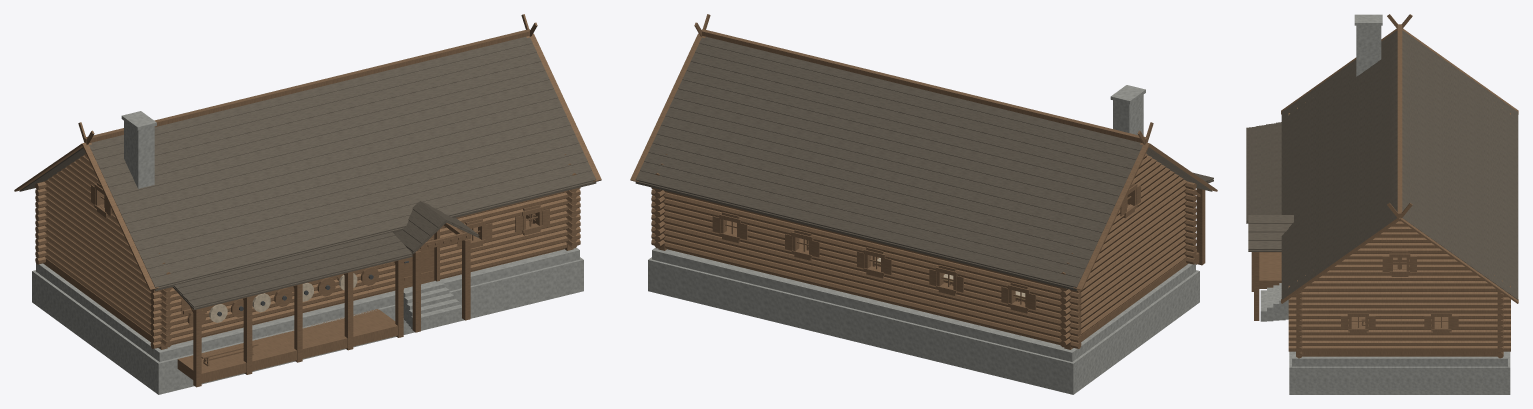
3 renders of one model, left to right at view 1: azimuth 30°, elevation 25°; view 2: azimuth 150°, elevation 25°; view 3: azimuth 270°, elevation 25°, orthographic. The views are drawn at different scales.
Visible parts, largest first — view 1: K01_roof, K01_foundation, K01_shell, K01_gable, K01_frame, K01_canopy_deck, K01_canopy, K01_flue, K01_porch, K01_shield, K01_shield.002, K01_floor (+2 smaller); view 2: K01_roof, K01_foundation, K01_shell, K01_gable, K01_frame, K01_shutter, K01_flue, K01_floor, K01_canopy; view 3: K01_roof, K01_gable, K01_foundation, K01_frame, K01_shell, K01_flue, K01_floor, K01_canopy_deck, K01_shutter, K01_porch.
Boxes of the visible parts, box(x1,y1,x2,y2) form: K01_roof: box(19, 36, 596, 309); K01_foundation: box(32, 247, 583, 394); K01_shell: box(35, 181, 580, 349); K01_gable: box(44, 144, 577, 347); K01_frame: box(14, 14, 601, 313); K01_canopy_deck: box(177, 309, 397, 383); K01_canopy: box(190, 259, 404, 387); K01_flue: box(121, 111, 156, 188); K01_porch: box(412, 223, 470, 332); K01_shield: box(187, 267, 378, 327); K01_shield.002: box(209, 273, 357, 322); K01_floor: box(44, 218, 564, 347); K01_roof: box(635, 36, 1213, 290); K01_foundation: box(648, 247, 1199, 394); K01_shell: box(651, 181, 1196, 349); K01_gable: box(654, 144, 1187, 347); K01_frame: box(630, 14, 1217, 313); K01_shutter: box(712, 184, 1140, 310); K01_flue: box(1110, 85, 1145, 135); K01_floor: box(667, 220, 1187, 344); K01_canopy: box(1196, 188, 1205, 265); K01_roof: box(1246, 30, 1518, 299); K01_gable: box(1288, 102, 1510, 351); K01_foundation: box(1260, 283, 1510, 394); K01_frame: box(1281, 14, 1518, 334); K01_shell: box(1296, 290, 1503, 358); K01_flue: box(1354, 14, 1382, 76); K01_floor: box(1302, 257, 1497, 356); K01_canopy_deck: box(1259, 252, 1281, 288); K01_shutter: box(1341, 256, 1458, 329); K01_porch: box(1254, 252, 1281, 320).
Size of the model in its own units: 21.9 by 10.95 by 13.12.
6 materials, 5 textured.
